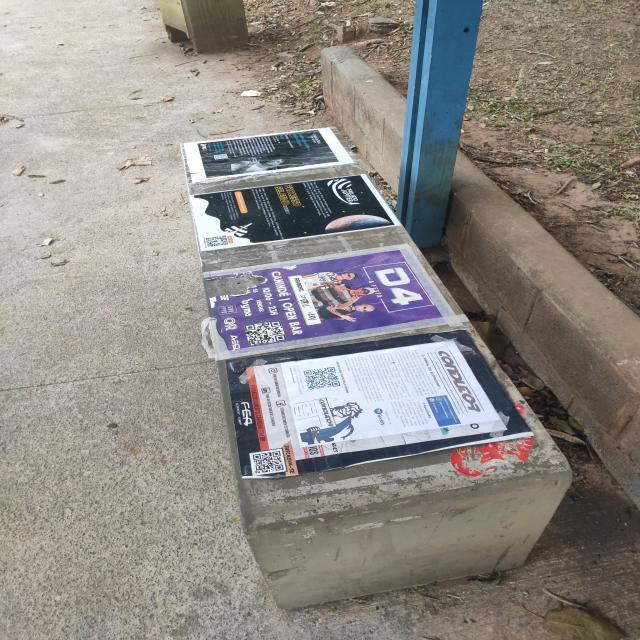qrcode: (246, 322, 288, 347), (305, 368, 341, 391), (254, 452, 284, 474), (207, 237, 229, 248), (215, 155, 229, 160)
